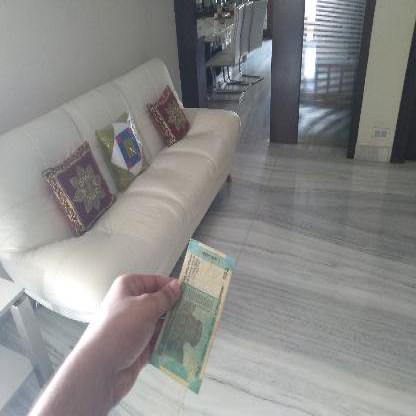New50Back: (155, 238, 229, 394)
